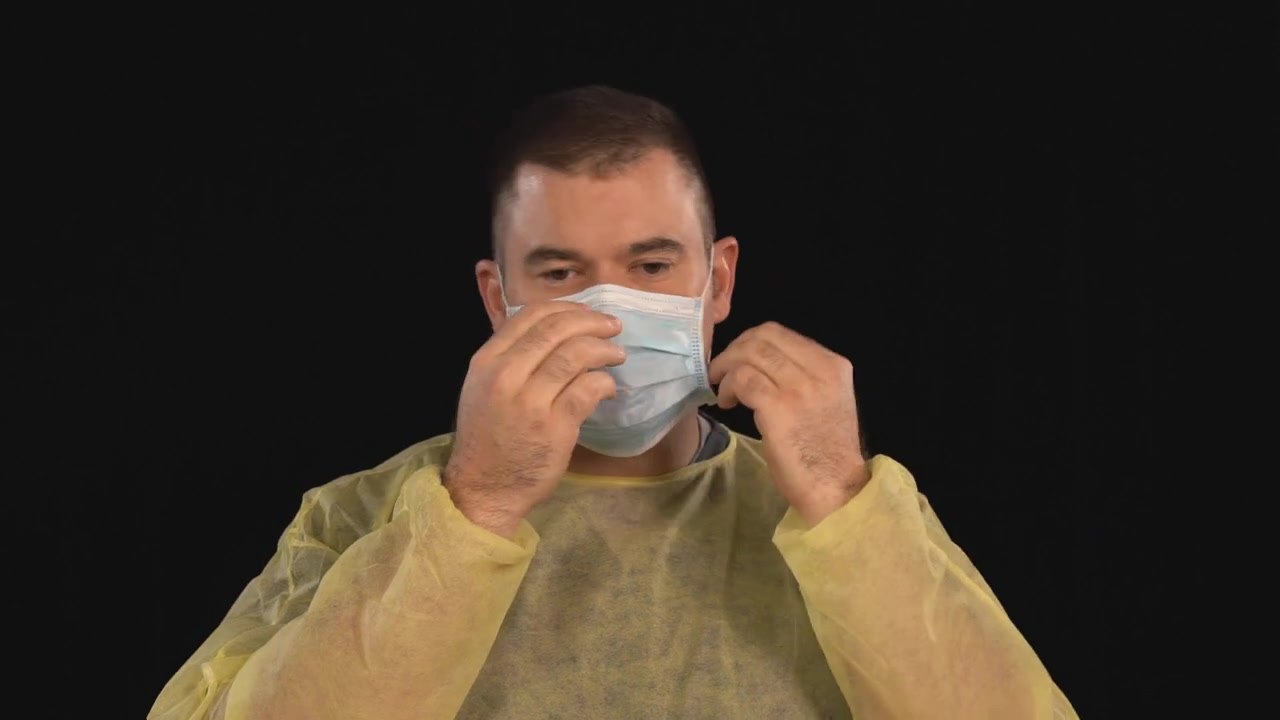Coverall: (167, 387, 1079, 720)
with_mask: (471, 262, 734, 452)
